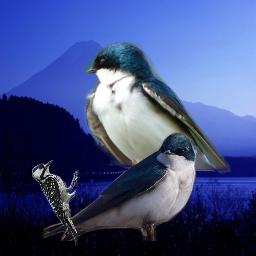Swallow: (82, 40, 231, 192), (42, 132, 198, 241)
Woodpecker: (31, 160, 80, 248)
